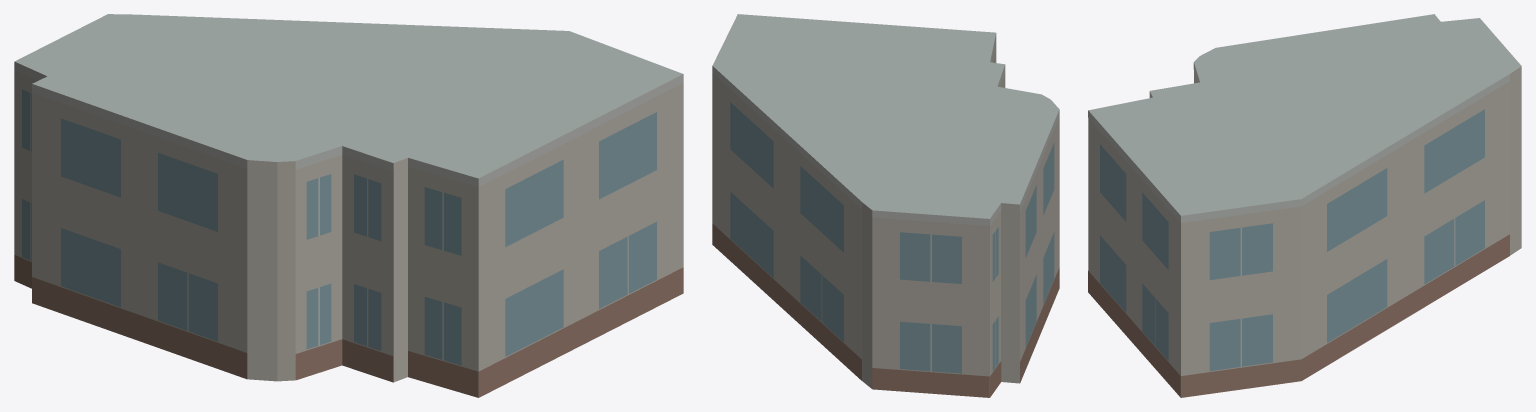
File: survey-upis-32607741.glb
3 renders of one model, left to right at view 1: azimuth 30°, elevation 25°; view 2: azimuth 150°, elevation 25°; view 3: azimuth 270°, elevation 25°, orthographic. The views are drawn at different scales.
Visible parts, largest first — view 1: survey-upis-32607741.tmp; view 2: survey-upis-32607741.tmp; view 3: survey-upis-32607741.tmp.
Part boxes in pixels (x1=…): survey-upis-32607741.tmp: x1=14, y1=14, x2=683, y2=397; survey-upis-32607741.tmp: x1=712, y1=14, x2=1059, y2=397; survey-upis-32607741.tmp: x1=1088, y1=14, x2=1521, y2=397.
Bounding box in the file's own units: 14.52 × 6.1 × 13.18.
